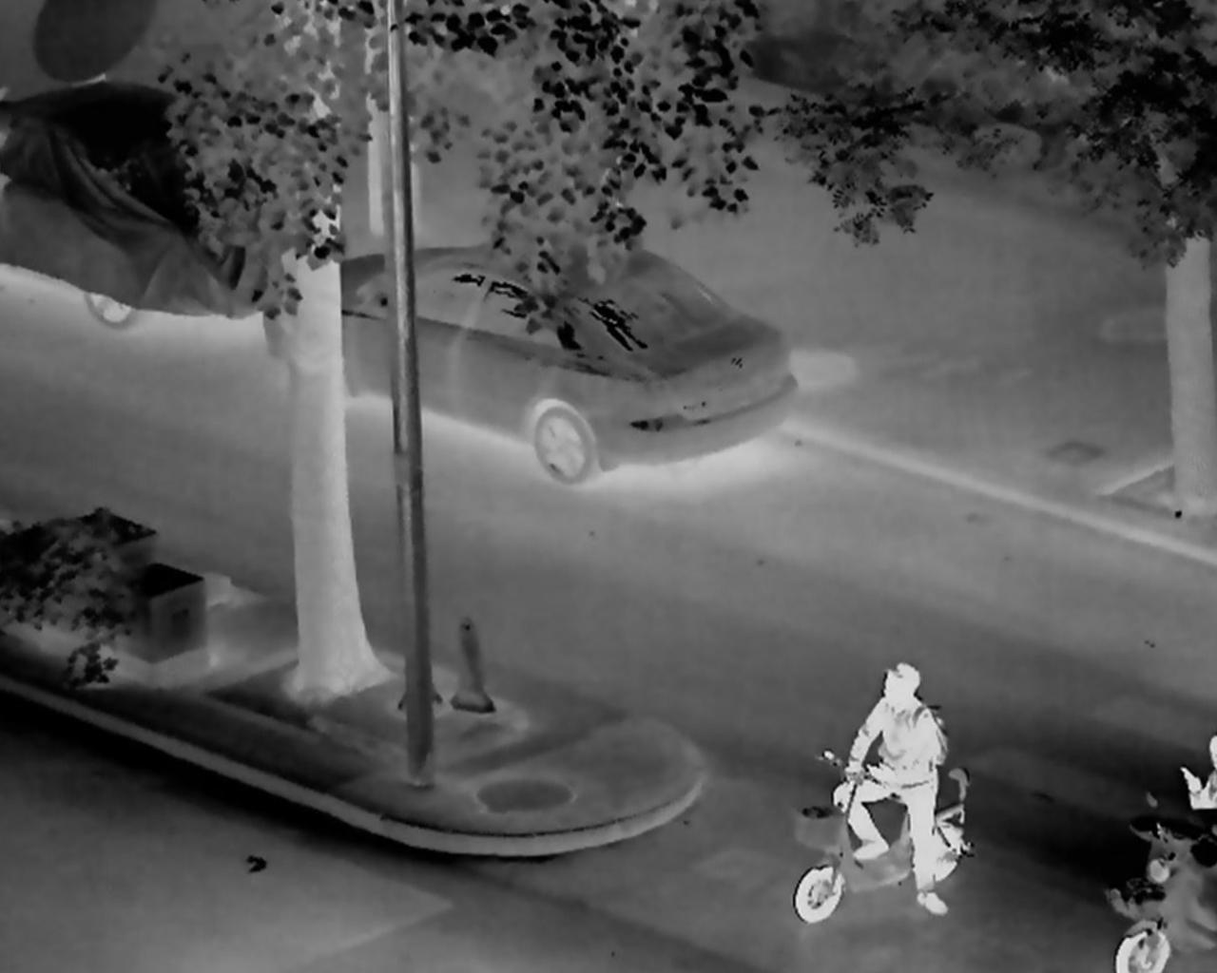person: (836, 661, 953, 920), (1178, 725, 1217, 807)
